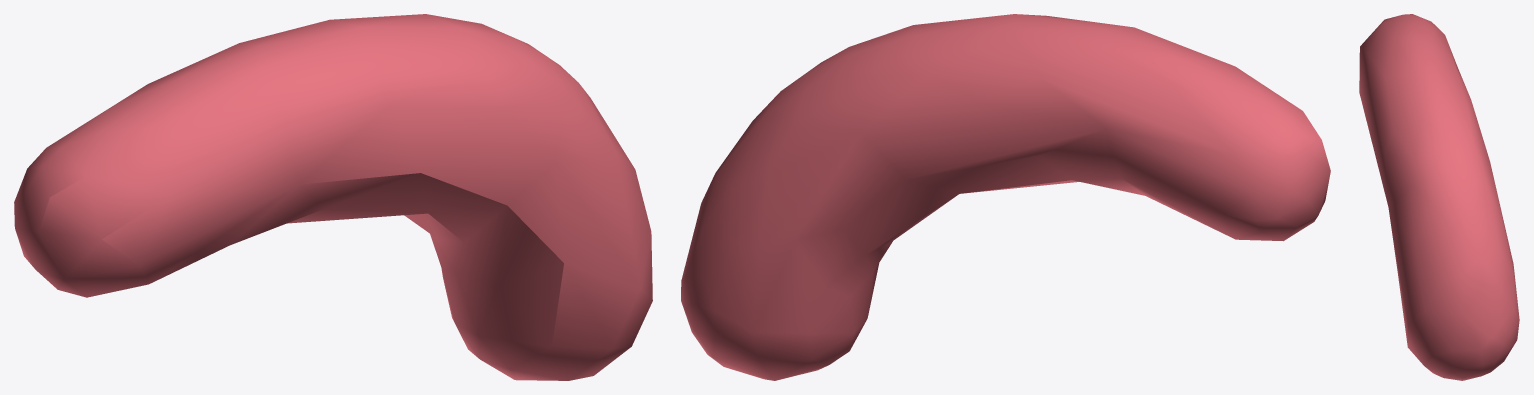
Rendered from fma50639_fj1723.glb.
3 renders of one model, left to right at view 1: azimuth 30°, elevation 25°; view 2: azimuth 150°, elevation 25°; view 3: azimuth 270°, elevation 25°, orthographic. The views are drawn at different scales.
Parts seen in each view (by area): view 1: FMA50639_FJ1723; view 2: FMA50639_FJ1723; view 3: FMA50639_FJ1723.
Boxes of the visible parts, left/top/right/bottom form: FMA50639_FJ1723: left=14, top=14, right=652, bottom=380; FMA50639_FJ1723: left=681, top=14, right=1330, bottom=380; FMA50639_FJ1723: left=1359, top=14, right=1519, bottom=380.
Size of the model in its own units: 0.00862 by 0.00548 by 0.00324.
